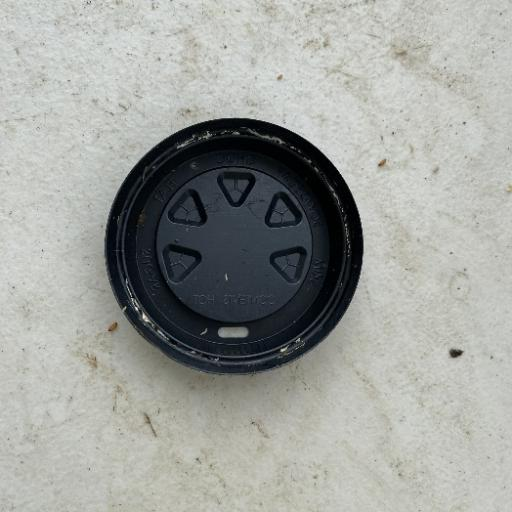Plastic: (102, 113, 368, 378)
